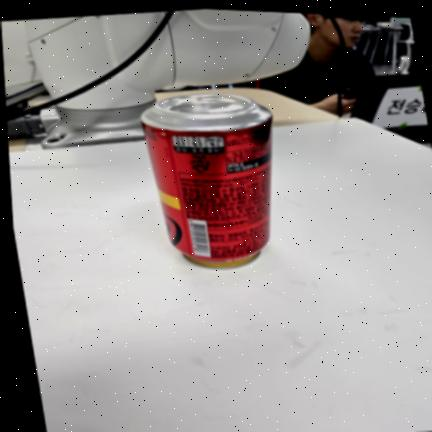can_coke_decaf: (141, 94, 272, 269)
